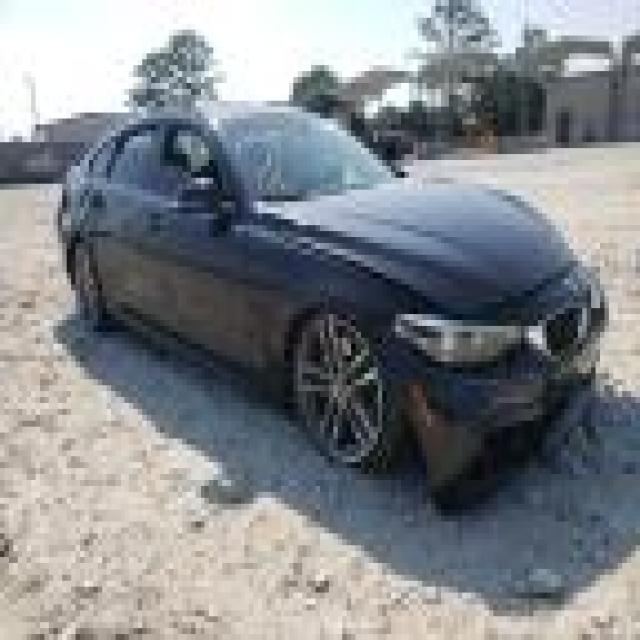minor: (424, 370, 638, 540)
